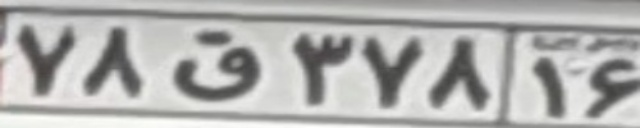1: (529, 56, 566, 118)
3: (289, 32, 349, 104)
6: (584, 55, 639, 118)
7: (360, 34, 420, 108), (16, 22, 75, 94)
8: (431, 34, 490, 111), (81, 24, 143, 96)
ghaf: (169, 28, 262, 100)
